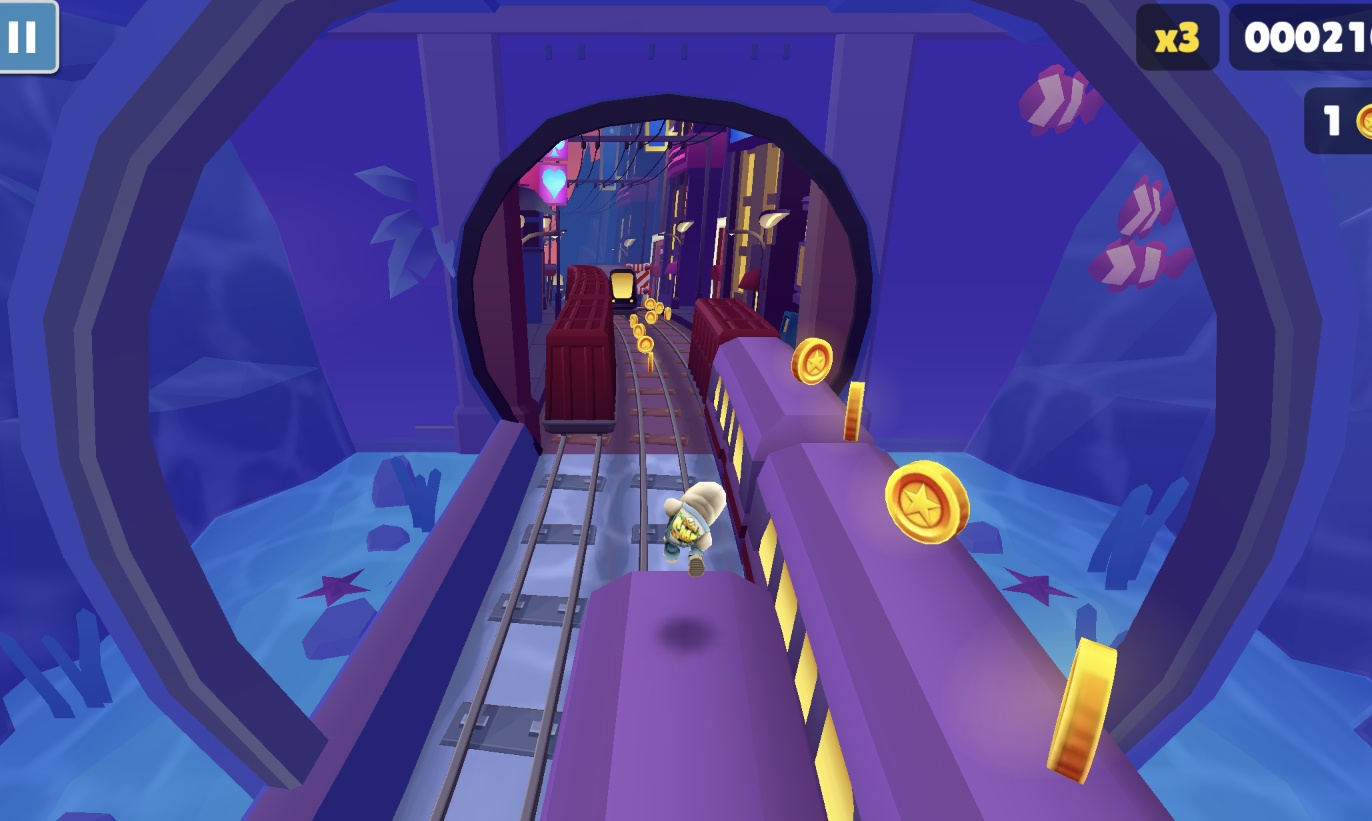overhead_barrier: (647, 267, 675, 320)
train: (703, 366, 1105, 821), (530, 575, 828, 821), (687, 334, 805, 473), (535, 273, 620, 444), (609, 266, 647, 320)
